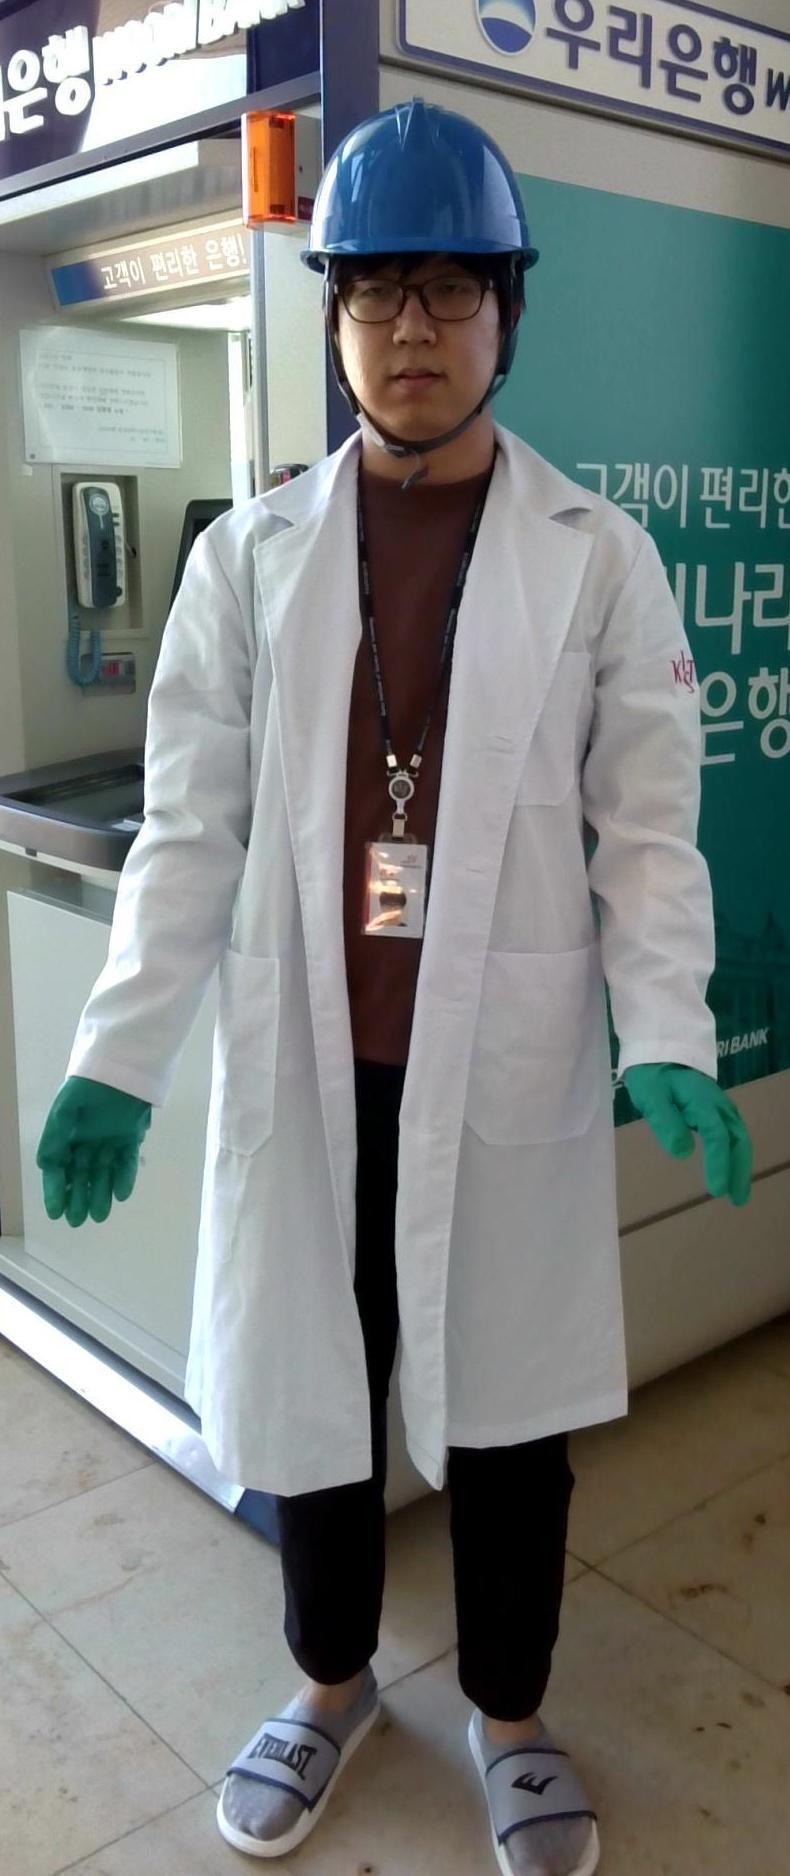lab_coat: (176, 504, 640, 1460)
